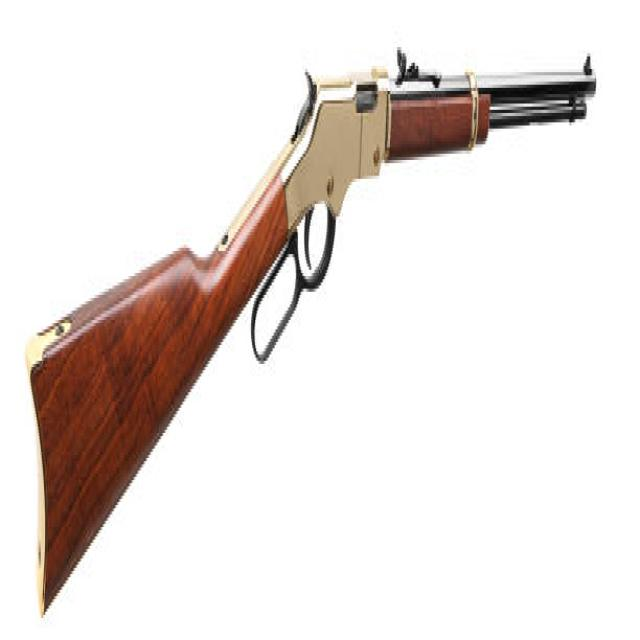rifle: (20, 35, 601, 623)
